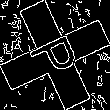P_NE: (24, 28, 86, 82)
